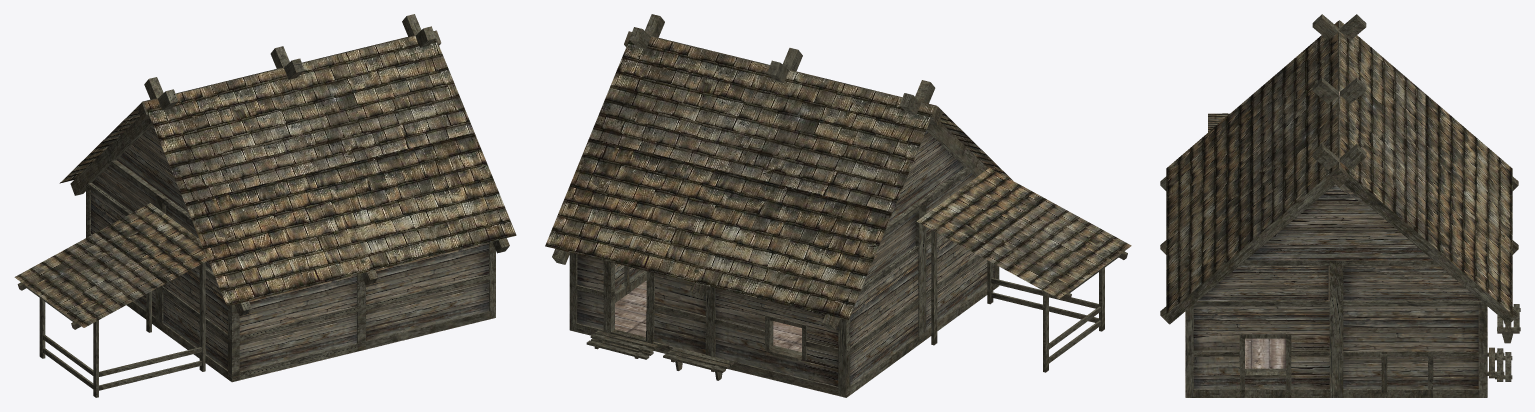
Rendered from Дом мой.fbx.
The picture shows the model from 3 angles, left to right: view 1: azimuth 30°, elevation 25°; view 2: azimuth 150°, elevation 25°; view 3: azimuth 270°, elevation 25°; orthographic projection. The views are drawn at different scales.
Parts seen in each view (by area): view 1: Cube; view 2: Cube; view 3: Cube.
Boxes of the visible parts, x1=… form: Cube: x1=14, y1=14, x2=516, y2=397; Cube: x1=545, y1=14, x2=1131, y2=397; Cube: x1=1160, y1=14, x2=1520, y2=397.
Bounding box in the file's own units: 331 × 185 × 239.
3 materials, 3 textured.
